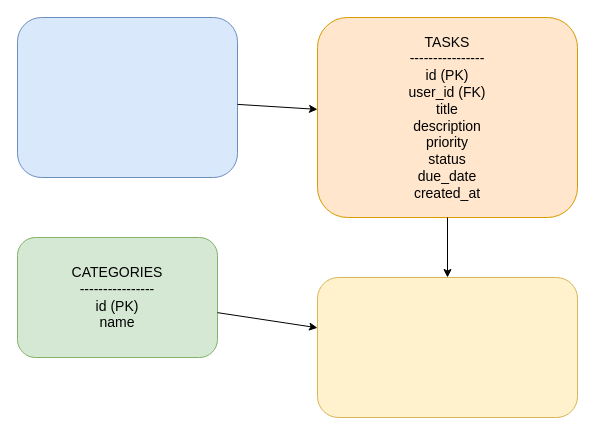
Image size: 595x435. Some labels were removed from this diagram. The box of each missing label's shape, as (x1, y1, x2, y2) in pixels:
TASK_CATEGORIES ---------------- id (PK) task_id (FK) category_id (FK): (316, 276, 578, 418)
USERS ---------------- id (PK) name email password_hash created_at: (16, 16, 238, 178)
